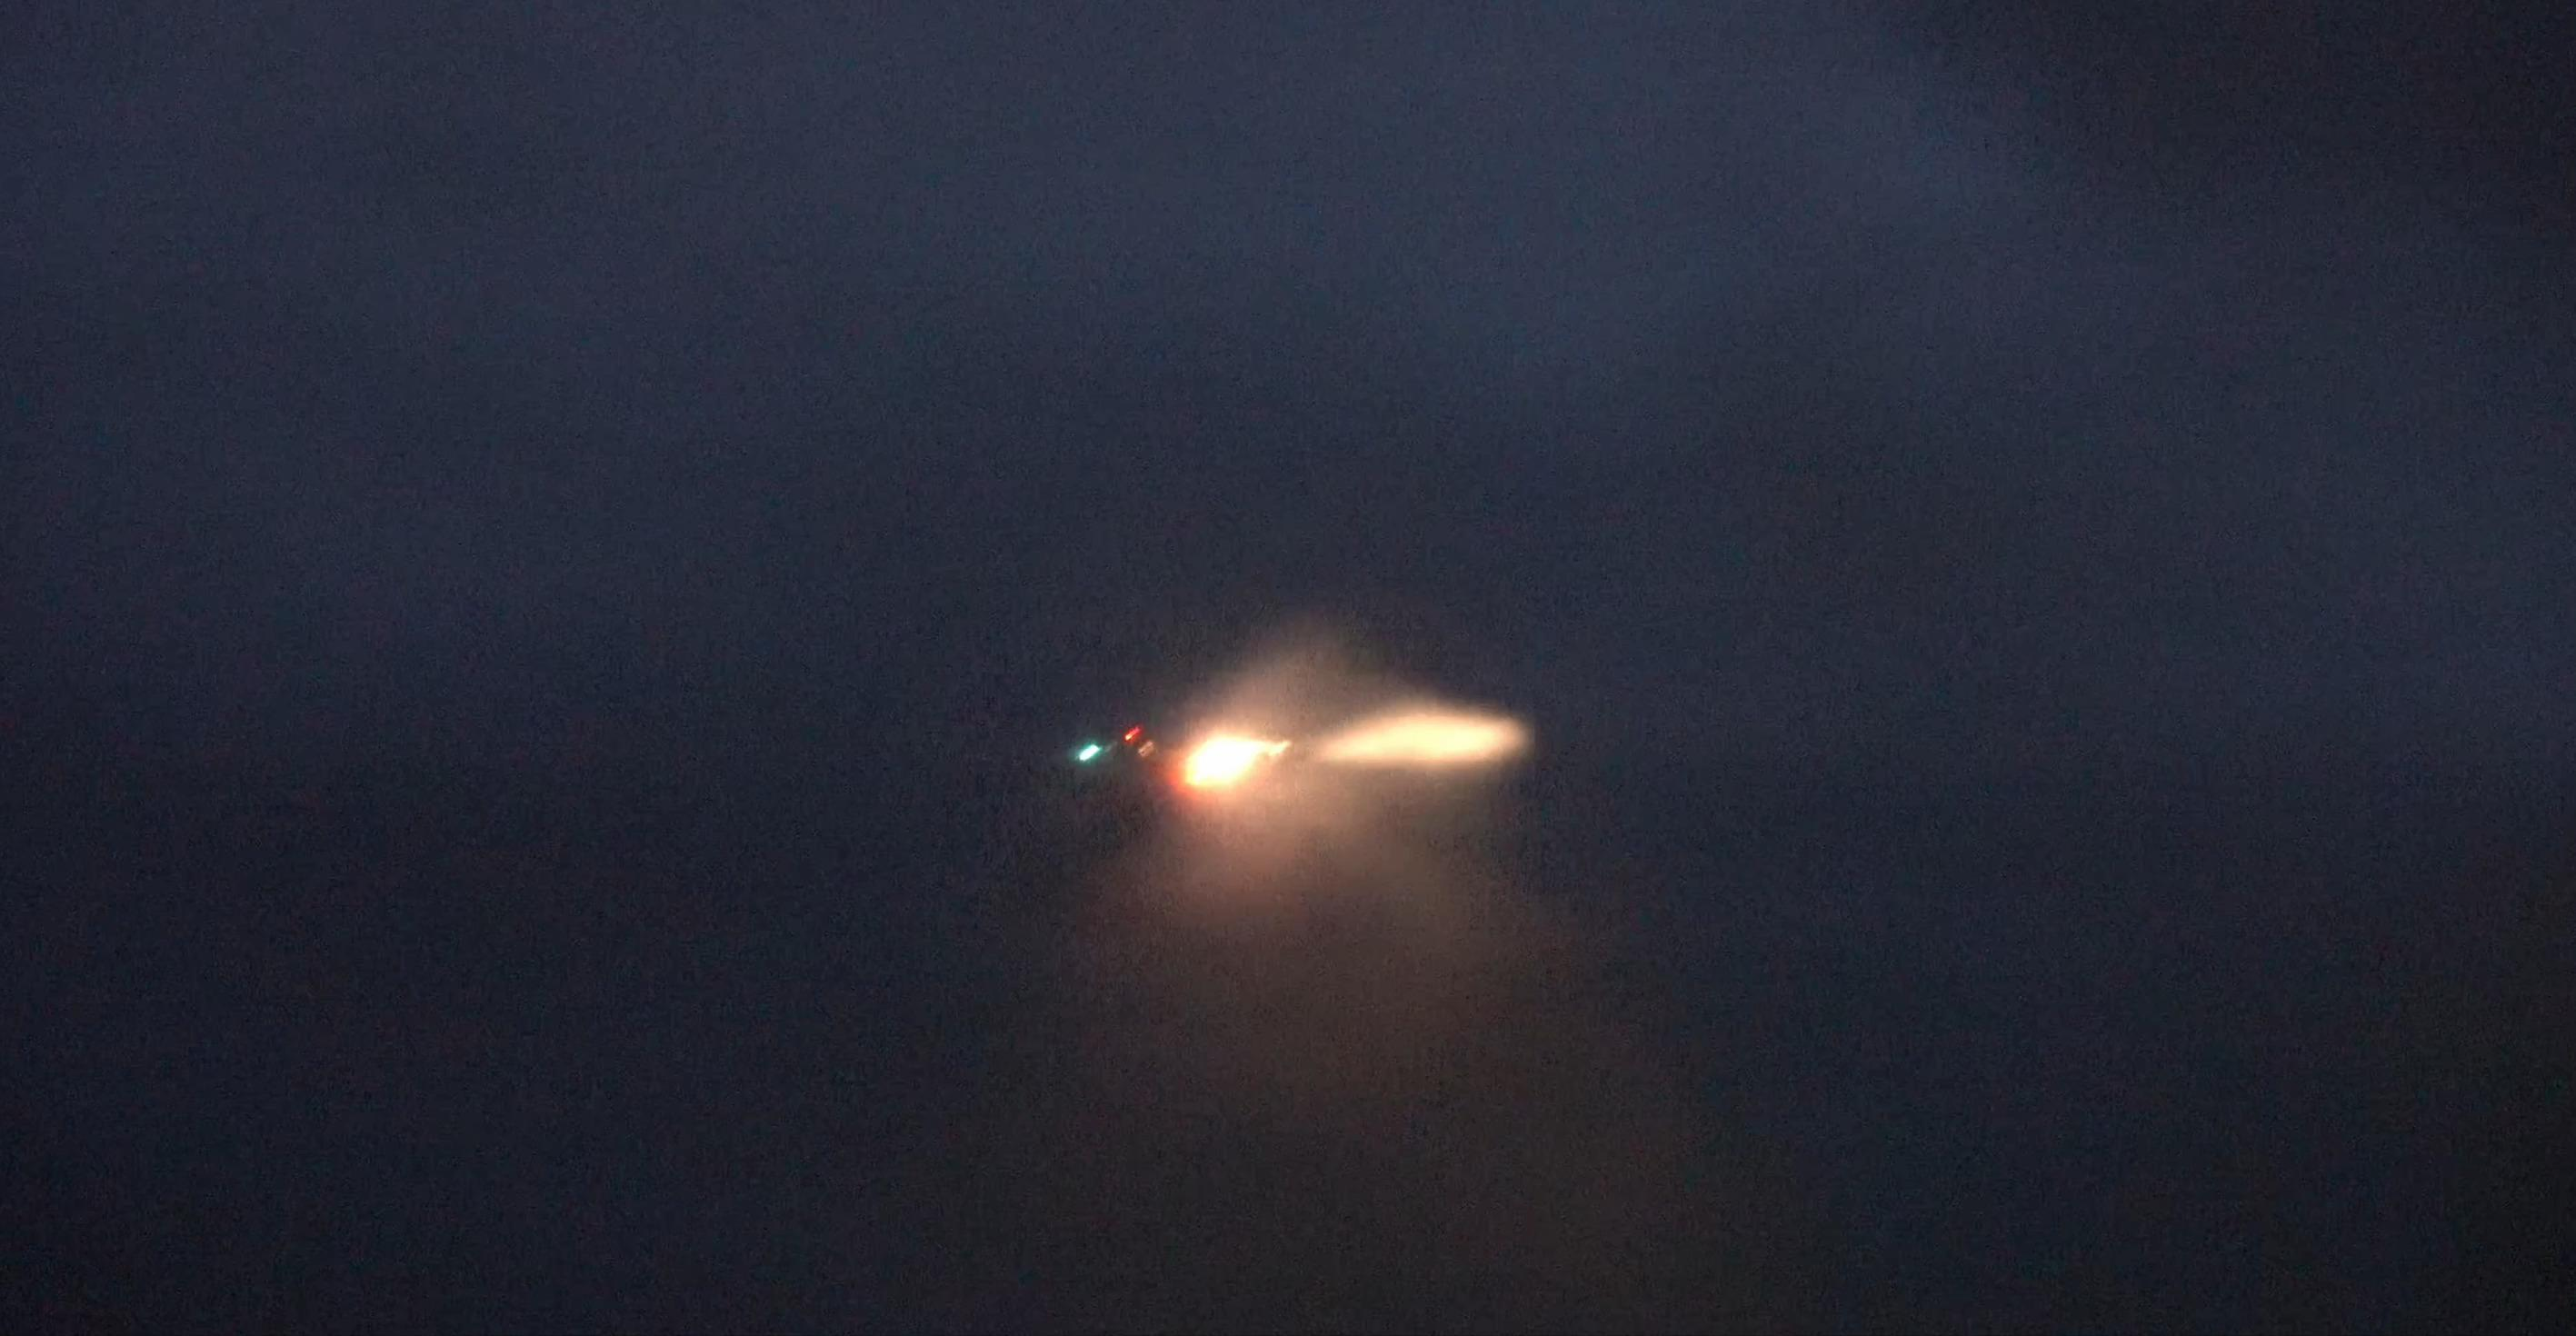Plane: (1026, 697, 1325, 826)
